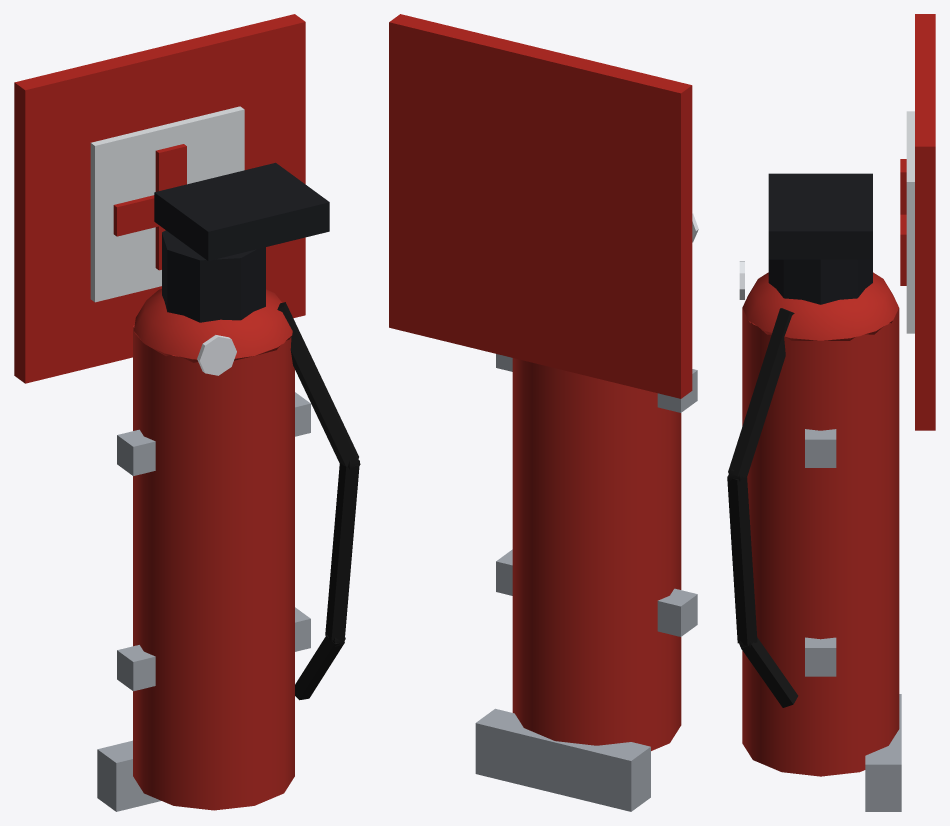
Rendered from safety_fire_extinguisher.glb.
3 views of the same model, side by side, from view 1: azimuth 30°, elevation 25°; view 2: azimuth 150°, elevation 25°; view 3: azimuth 270°, elevation 25° (orthographic). The views are drawn at different scales.
Parts seen in each view (by area): view 1: safety_fire_extinguisher; view 2: safety_fire_extinguisher; view 3: safety_fire_extinguisher.
Boxes of the visible parts, x1,y1,x2,y2 form: safety_fire_extinguisher: (14,14,360,811); safety_fire_extinguisher: (389,14,698,811); safety_fire_extinguisher: (727,14,935,811).
Size of the model in its own units: 0.3 by 0.735 by 0.1995.
